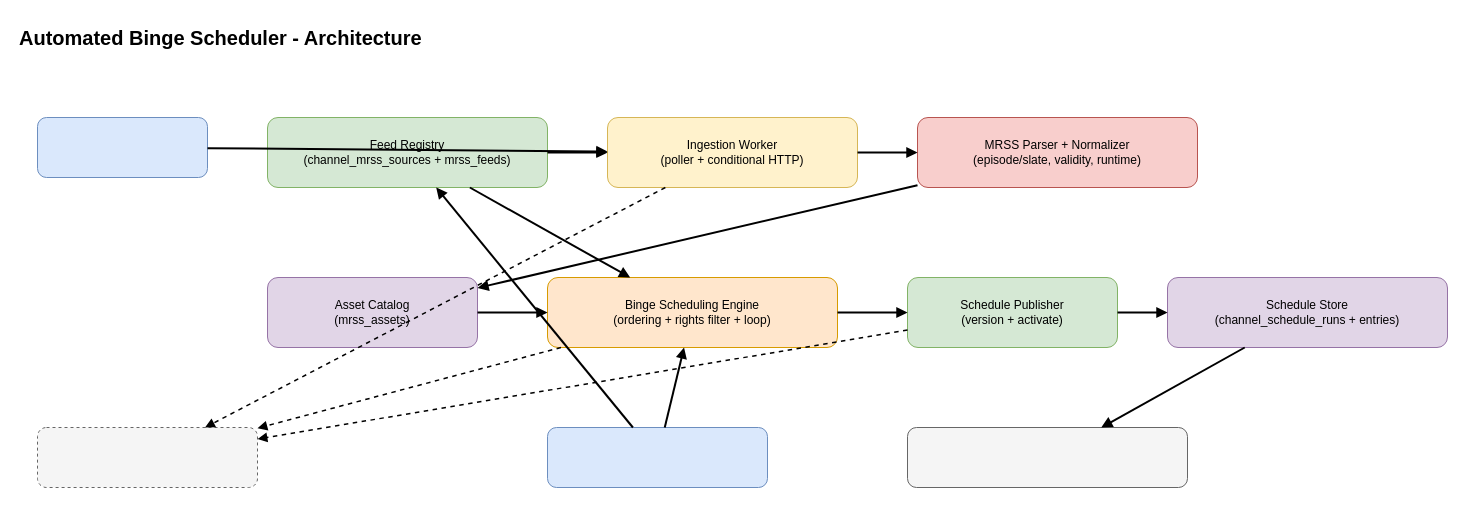
The diagram is 1465 pixels wide and 505 high, and some of its shapes have lost their labels. Here are the shapes that lost their labels. From the top down, the centre of each, then its label:
At [122,147]: "MRSS Feed URL(s)".
At [147,457]: "Observability (metrics, logs, alerts)".
At [657,457]: "Control API / Admin".
At [1047,457]: "Downstream Consumer (Playout / EPG / App API)".
